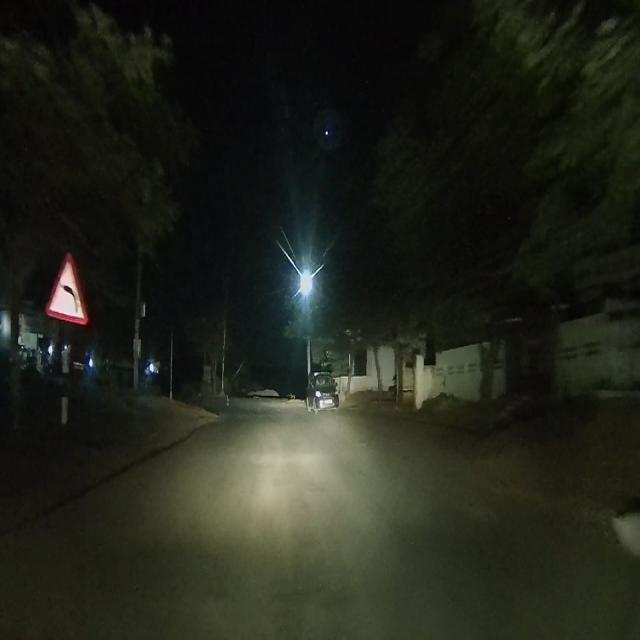left-hand-curve: (46, 251, 90, 331)
